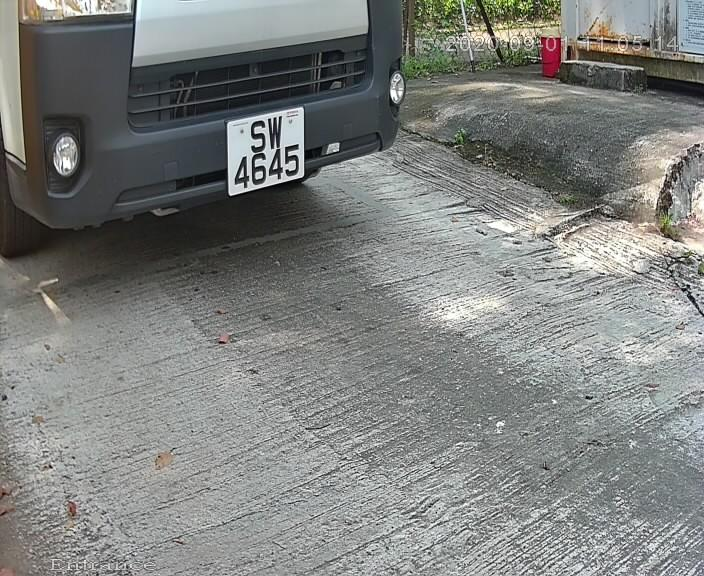License Plate: (221, 101, 318, 201)
